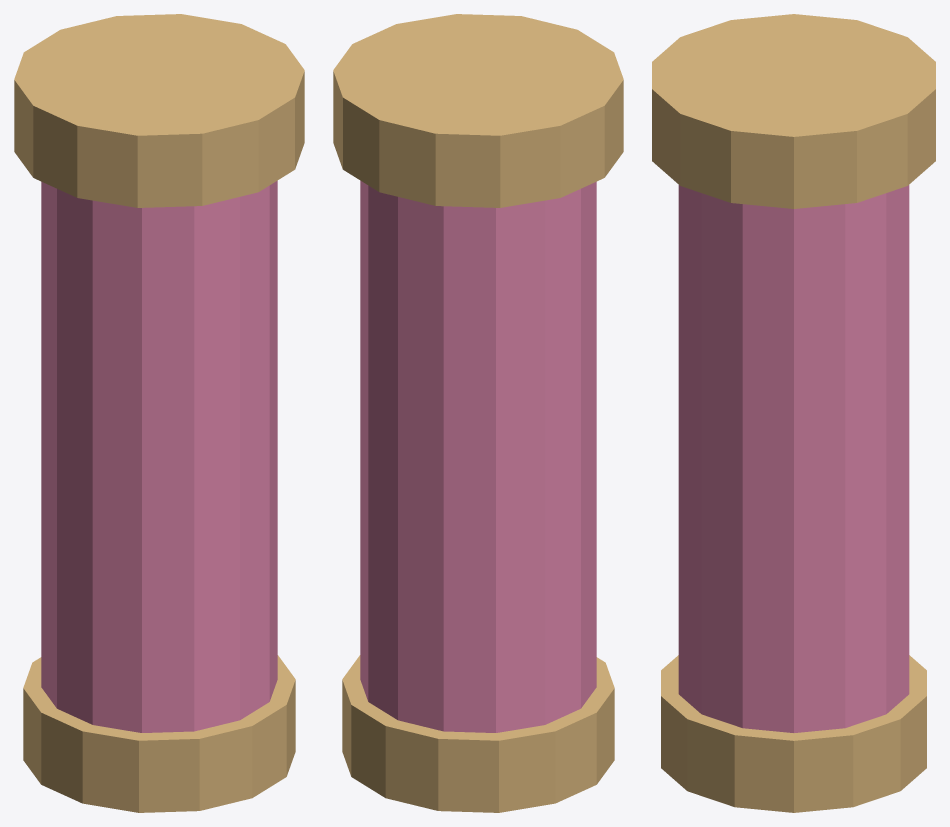
Rendered from VerticalGrip.obj.
The picture shows the model from 3 angles, left to right: view 1: azimuth 30°, elevation 25°; view 2: azimuth 150°, elevation 25°; view 3: azimuth 270°, elevation 25°; orthographic projection.
Visible parts, largest first — view 1: VerticalGrip_Body, VerticalGrip_Detail; view 2: VerticalGrip_Body, VerticalGrip_Detail; view 3: VerticalGrip_Body, VerticalGrip_Detail.
Part boxes in pixels (x1,y1,x2,y2): VerticalGrip_Body: [41, 180, 277, 732]; VerticalGrip_Detail: [14, 14, 304, 812]; VerticalGrip_Body: [360, 180, 596, 732]; VerticalGrip_Detail: [333, 14, 623, 812]; VerticalGrip_Body: [678, 185, 909, 732]; VerticalGrip_Detail: [652, 14, 935, 812].
Size of the model in its own units: 0.128 by 0.33 by 0.1248.
